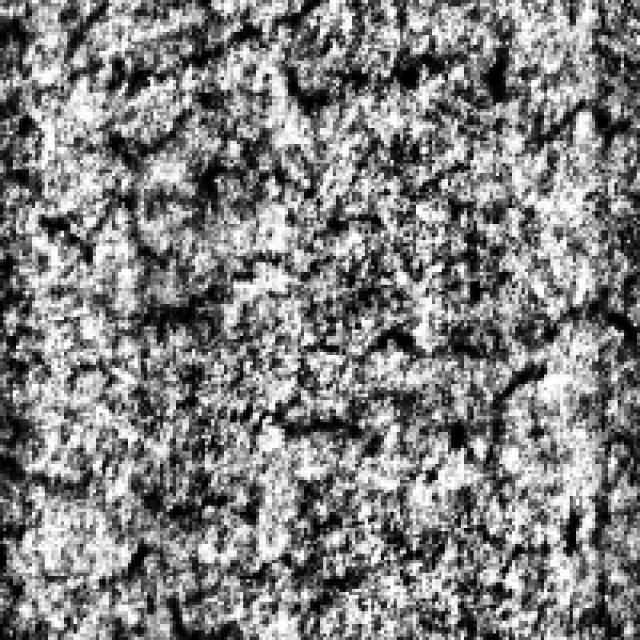Pitted_Surface: (44, 307, 630, 576), (35, 22, 531, 288)
